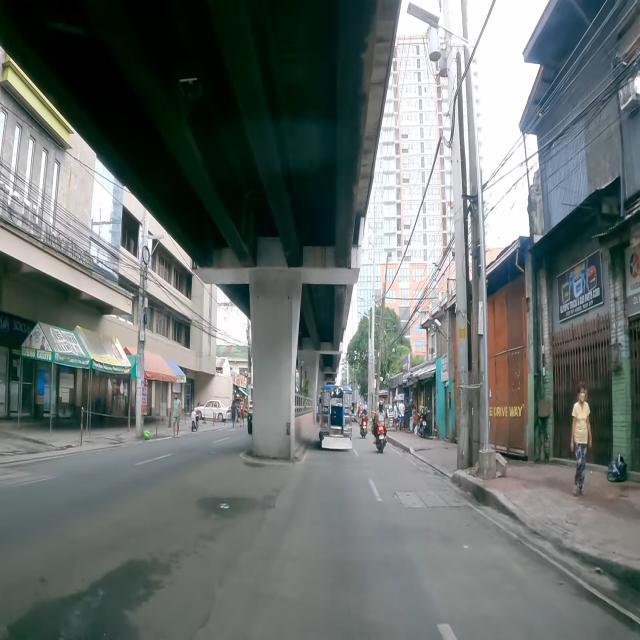car: (194, 399, 232, 422)
jeepney: (318, 384, 352, 450)
motorcycle: (372, 400, 387, 454), (358, 404, 368, 440), (418, 407, 428, 439), (191, 411, 199, 432)
